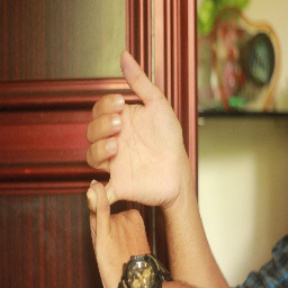S: (79, 46, 191, 288)
